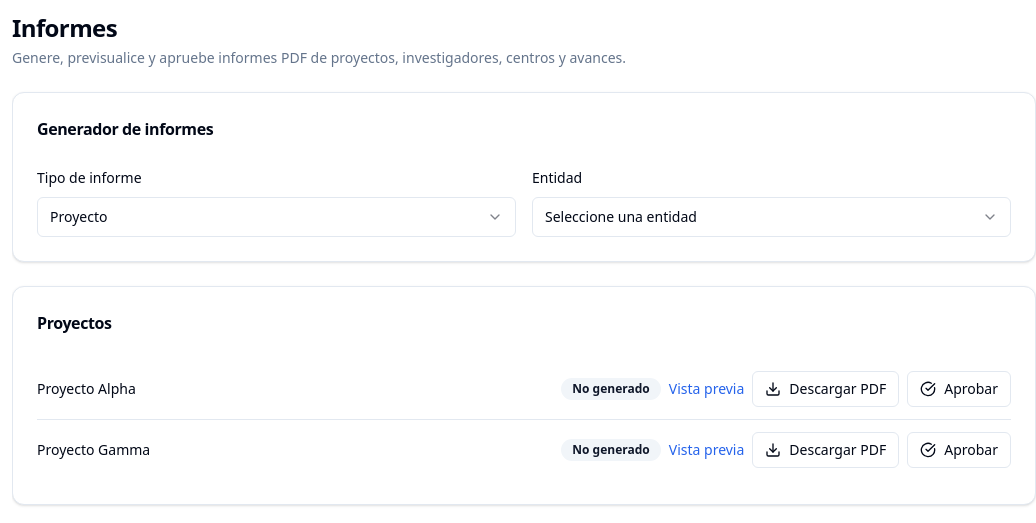
it: ReportHub — rendering › resets the selected entity when the type changes
Click the dropdown labelled "Seleccione una entidad" at coordinates (621, 216), box [532,197,1011,237]
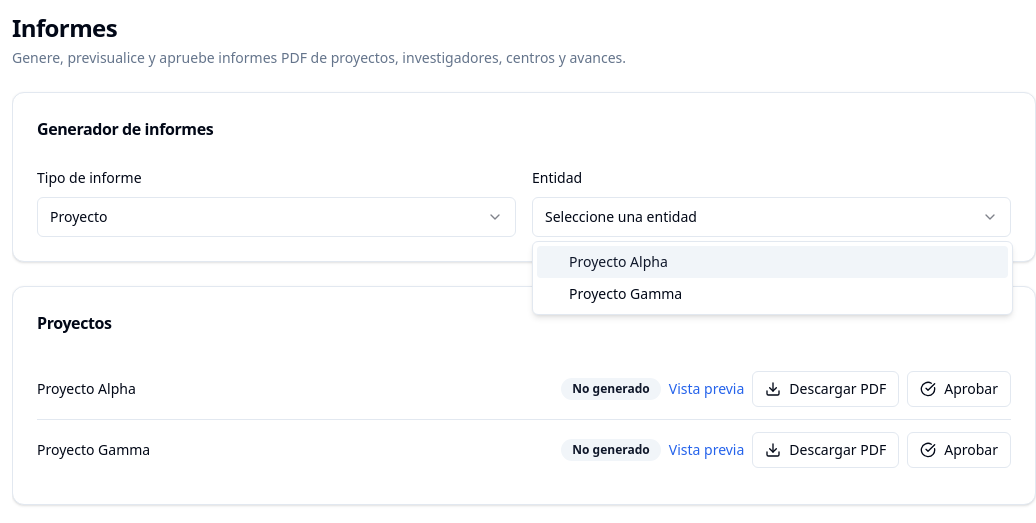
Click the option "Proyecto Alpha" at coordinates (618, 262), box [537,246,1008,278]
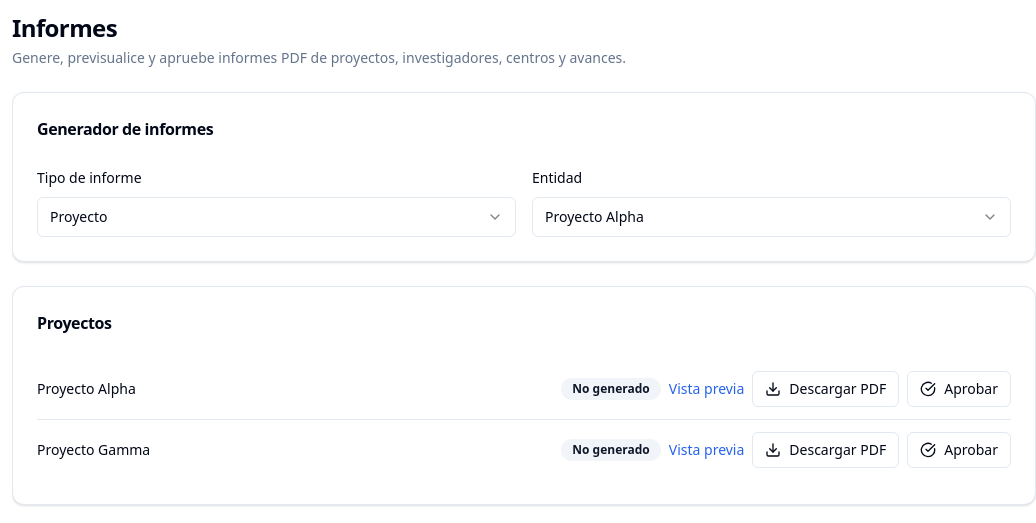
Now the dropdown named "entidad" reads "Proyecto Alpha", box [532,197,1011,237]
Click the dropdown named "tipo de informe" at coordinates (79, 216), box [37,197,516,237]
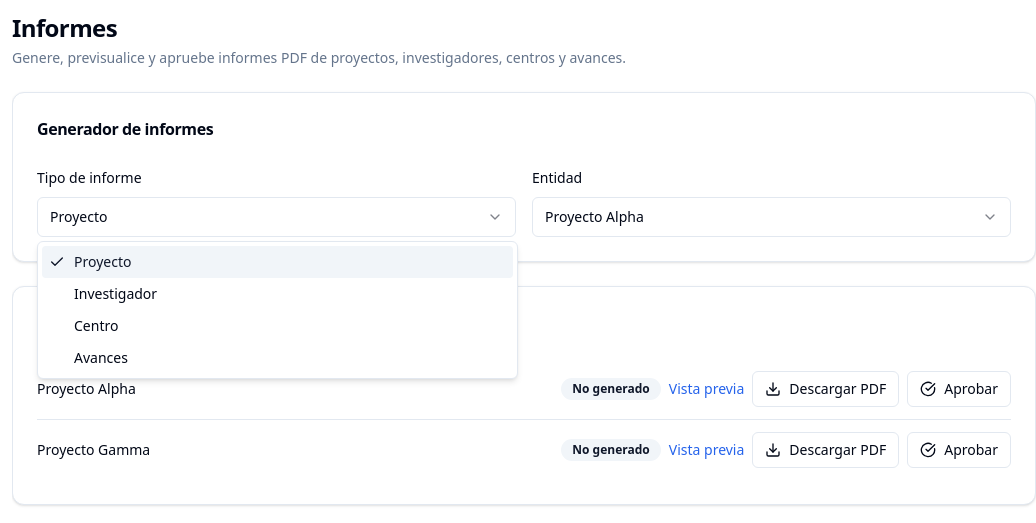
Click the option "Investigador" at coordinates (116, 294), box [74,284,157,303]
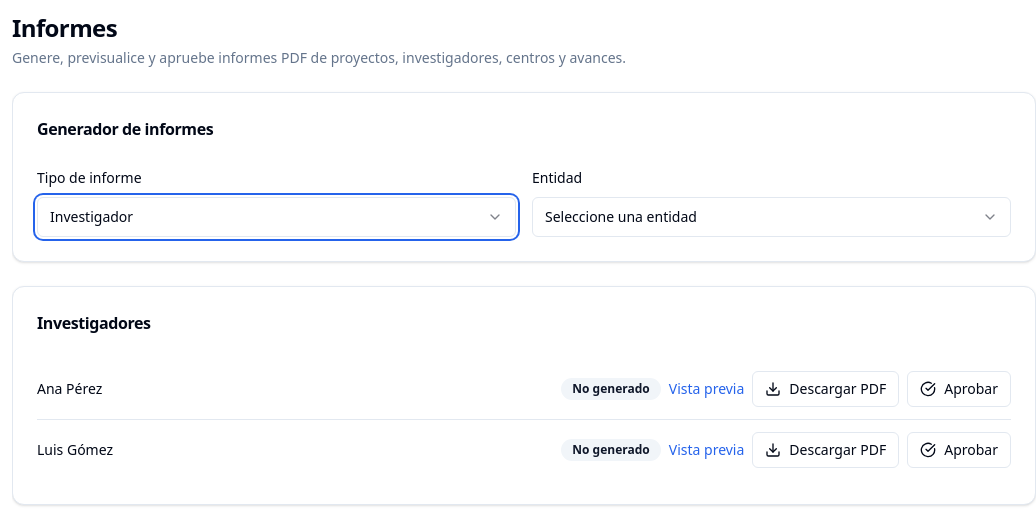
Now the dropdown labelled "Seleccione una entidad" is shown, box [532,197,1011,237]
